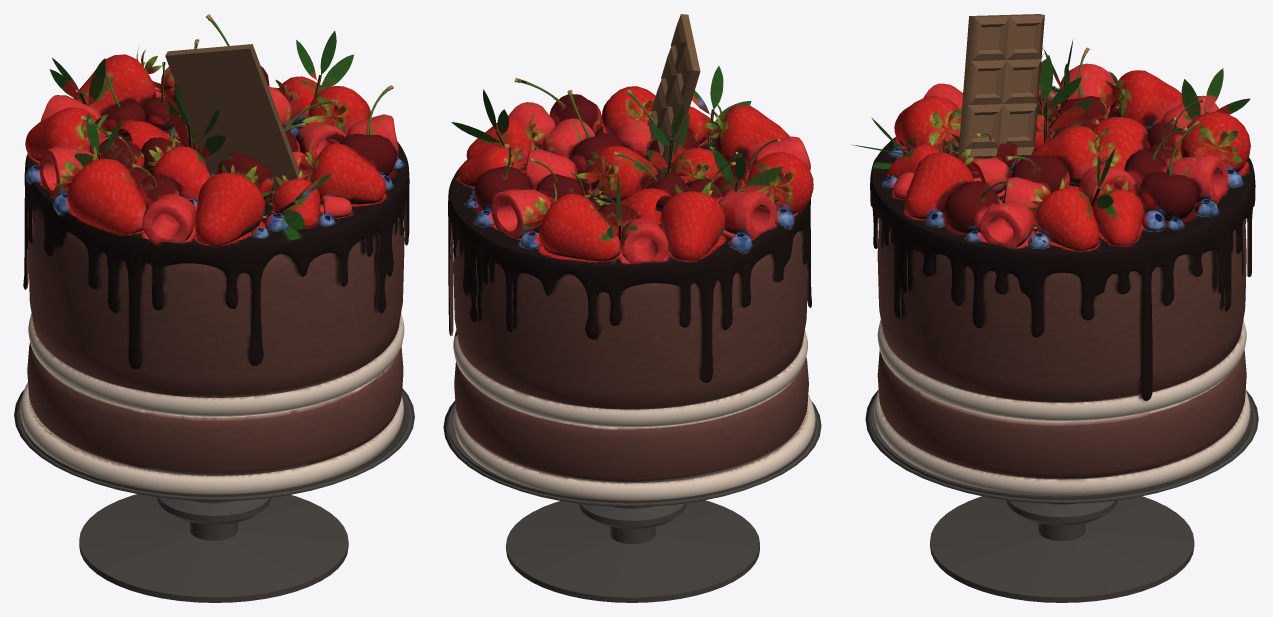
Rendered from CHOCO.glb.
The picture shows the model from 3 angles, left to right: view 1: azimuth 30°, elevation 25°; view 2: azimuth 150°, elevation 25°; view 3: azimuth 270°, elevation 25°; orthographic projection. The views are drawn at different scales.
Visible parts, largest first — view 1: SHONGCOLATE; view 2: SHONGCOLATE; view 3: SHONGCOLATE.
Part boxes in pixels (x1,y1,x2,y2): SHONGCOLATE: (14,14,414,602); SHONGCOLATE: (443,14,821,602); SHONGCOLATE: (851,14,1258,602).
Bounding box in the file's own units: 0.1121 × 0.1658 × 0.1165.
3 materials, 3 textured.
